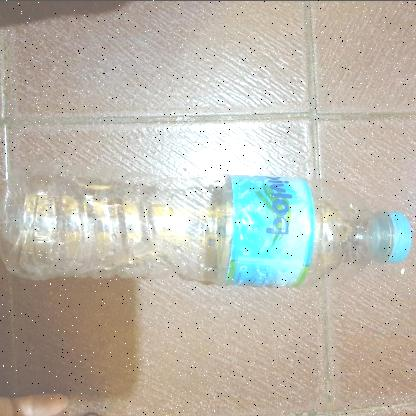Plastic Bottle: (4, 166, 416, 290)
